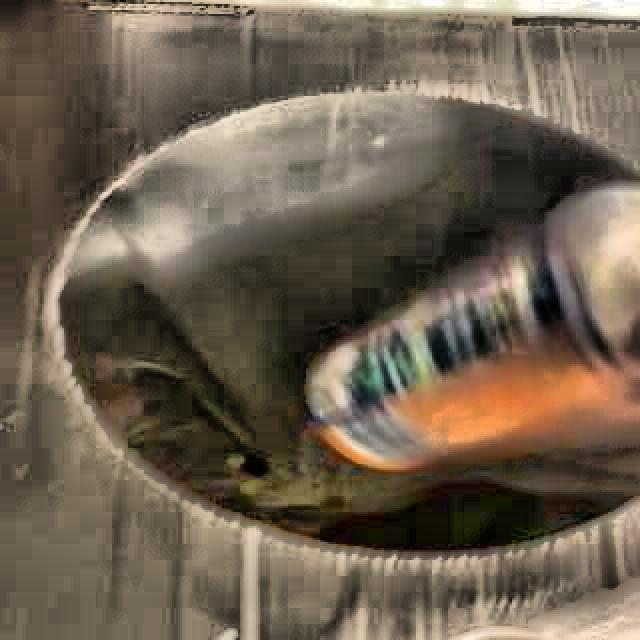metal: (307, 182, 640, 473)
